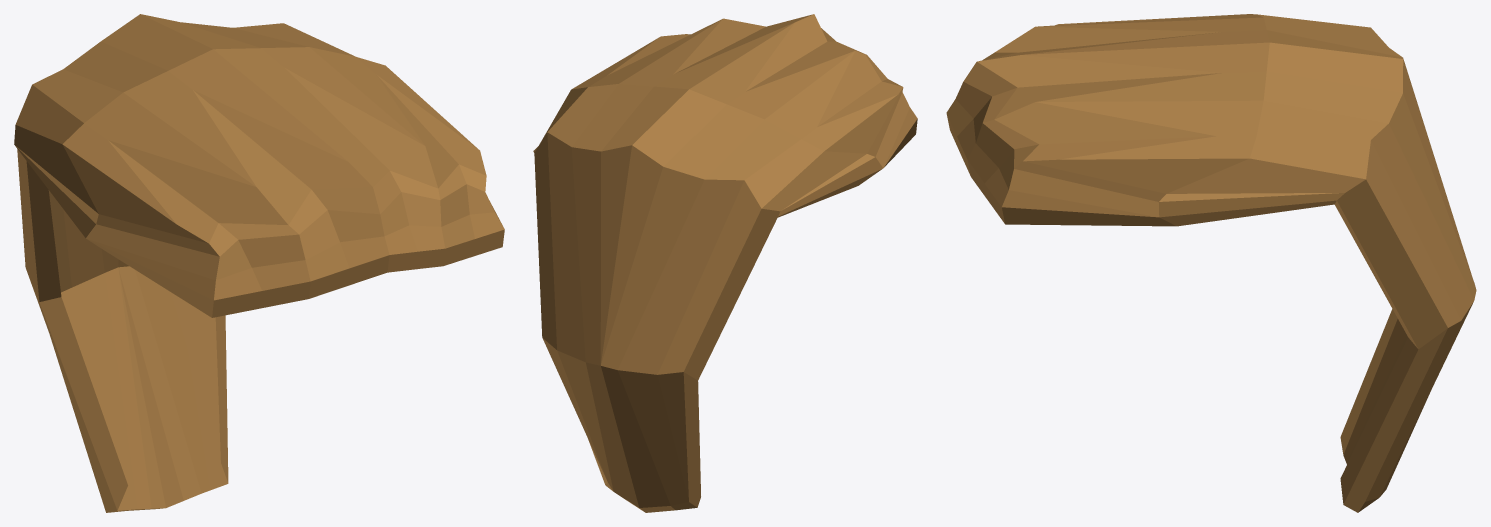
The model's file is Viking_M_Hair_A.fbx.
The picture shows the model from 3 angles, left to right: view 1: azimuth 30°, elevation 25°; view 2: azimuth 150°, elevation 25°; view 3: azimuth 270°, elevation 25°; orthographic projection. The views are drawn at different scales.
Parts seen in each view (by area): view 1: Viking_M_Hair_A; view 2: Viking_M_Hair_A; view 3: Viking_M_Hair_A.
Boxes of the visible parts, box(x1,y1,x2,y2) form: Viking_M_Hair_A: box(14, 14, 504, 512); Viking_M_Hair_A: box(533, 14, 917, 512); Viking_M_Hair_A: box(946, 14, 1476, 512).
Size of the model in its own units: 17.78 by 22.64 by 23.72.
